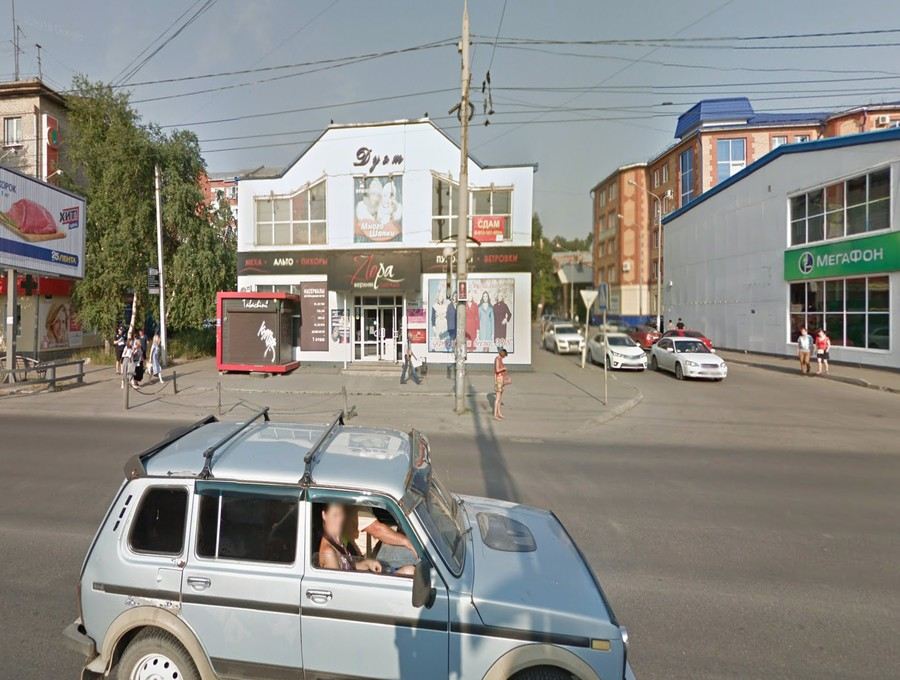Traffic Light-red: (451, 277, 470, 303)
